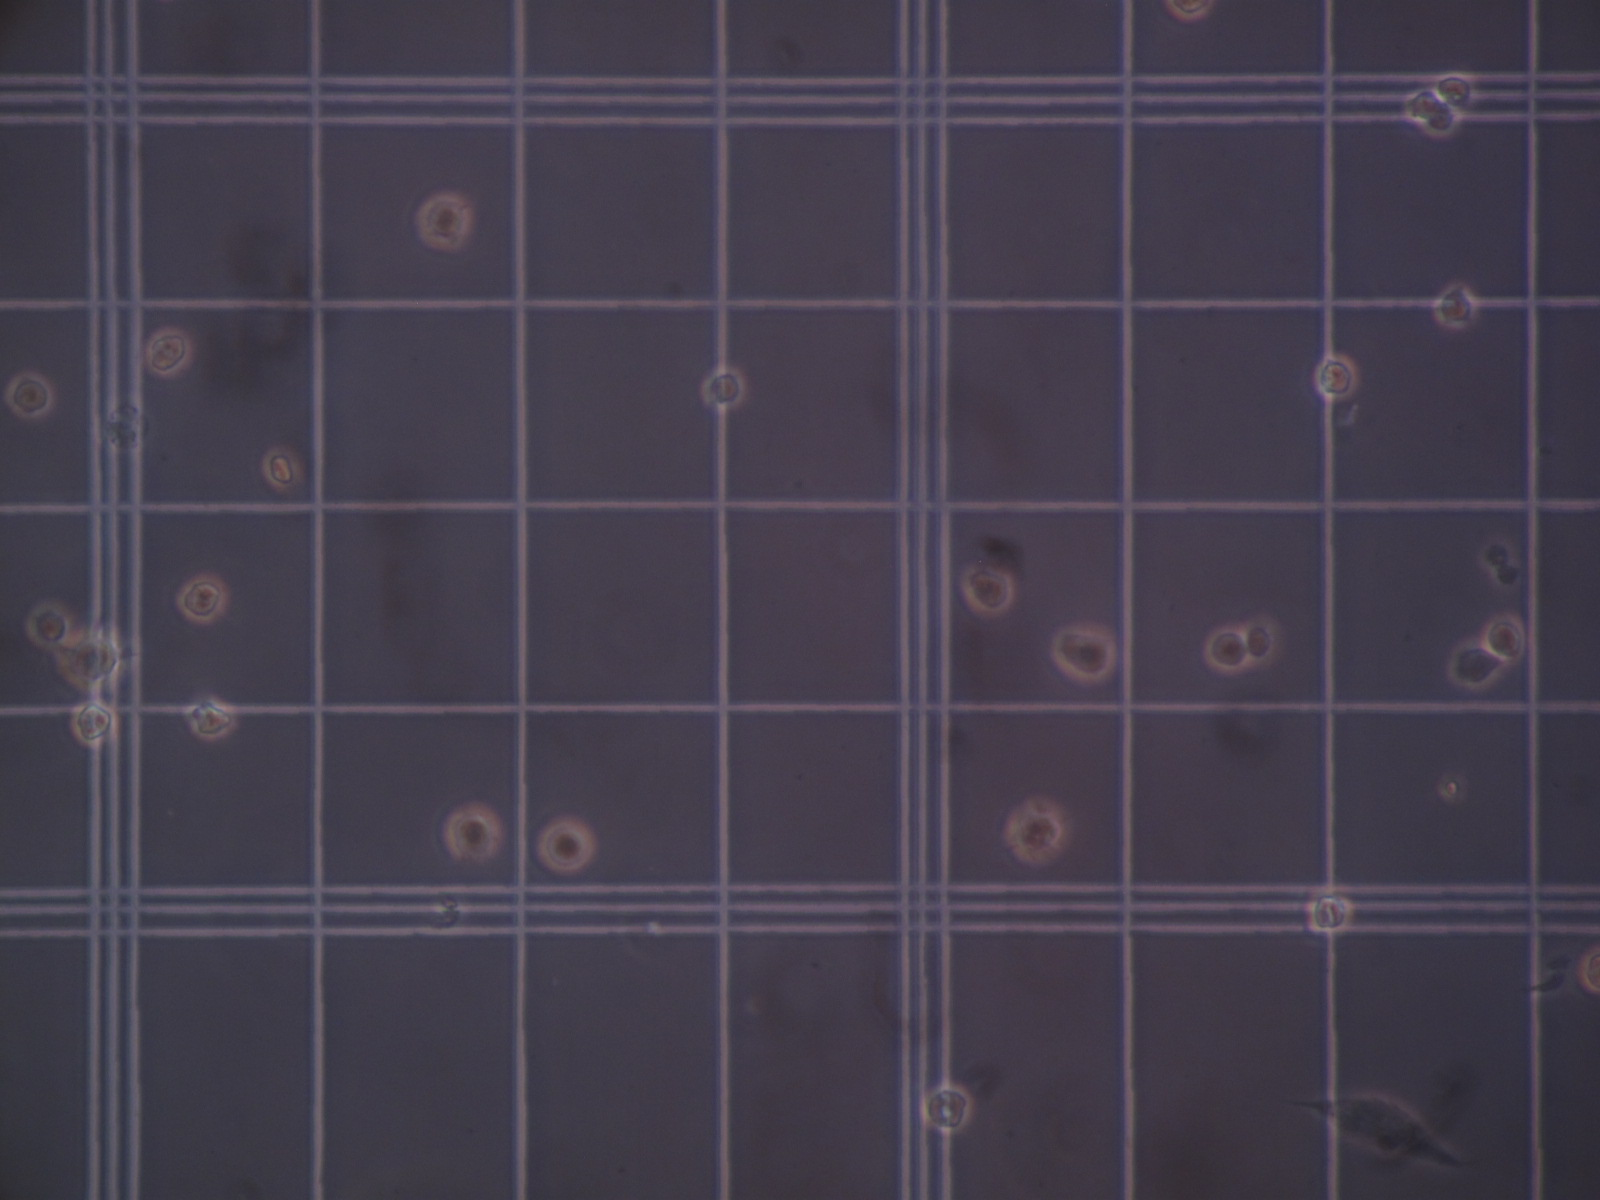hemo: (1004, 797, 1066, 865), (57, 630, 122, 691), (1051, 624, 1117, 683), (97, 396, 155, 456), (443, 803, 501, 862), (414, 192, 472, 250), (537, 818, 596, 874), (960, 563, 1015, 616), (1448, 639, 1506, 689), (176, 574, 228, 624), (923, 1082, 973, 1134), (4, 371, 54, 420), (145, 326, 191, 377), (25, 601, 73, 649), (71, 700, 118, 747), (1204, 626, 1251, 674), (186, 696, 236, 740), (1306, 889, 1353, 934), (1313, 353, 1358, 400), (1482, 613, 1526, 661), (700, 366, 746, 410), (1432, 284, 1477, 329), (1420, 92, 1460, 137), (1243, 616, 1279, 666), (262, 447, 301, 490), (1434, 73, 1477, 110), (1406, 89, 1443, 121), (1580, 945, 1600, 995), (1165, 3, 1214, 21)
